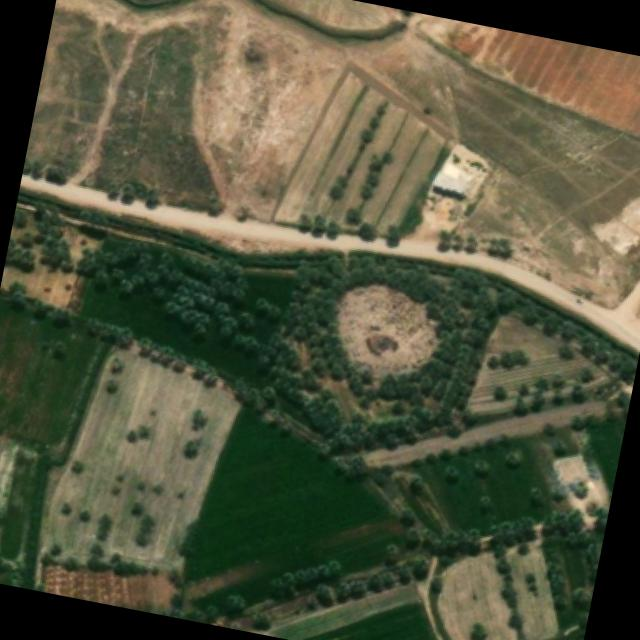ruins: (169, 8, 360, 228), (447, 74, 640, 235), (196, 436, 367, 585), (88, 462, 203, 572), (447, 440, 552, 536), (0, 316, 68, 448)
vegetation: (264, 240, 500, 448), (84, 231, 292, 368)
